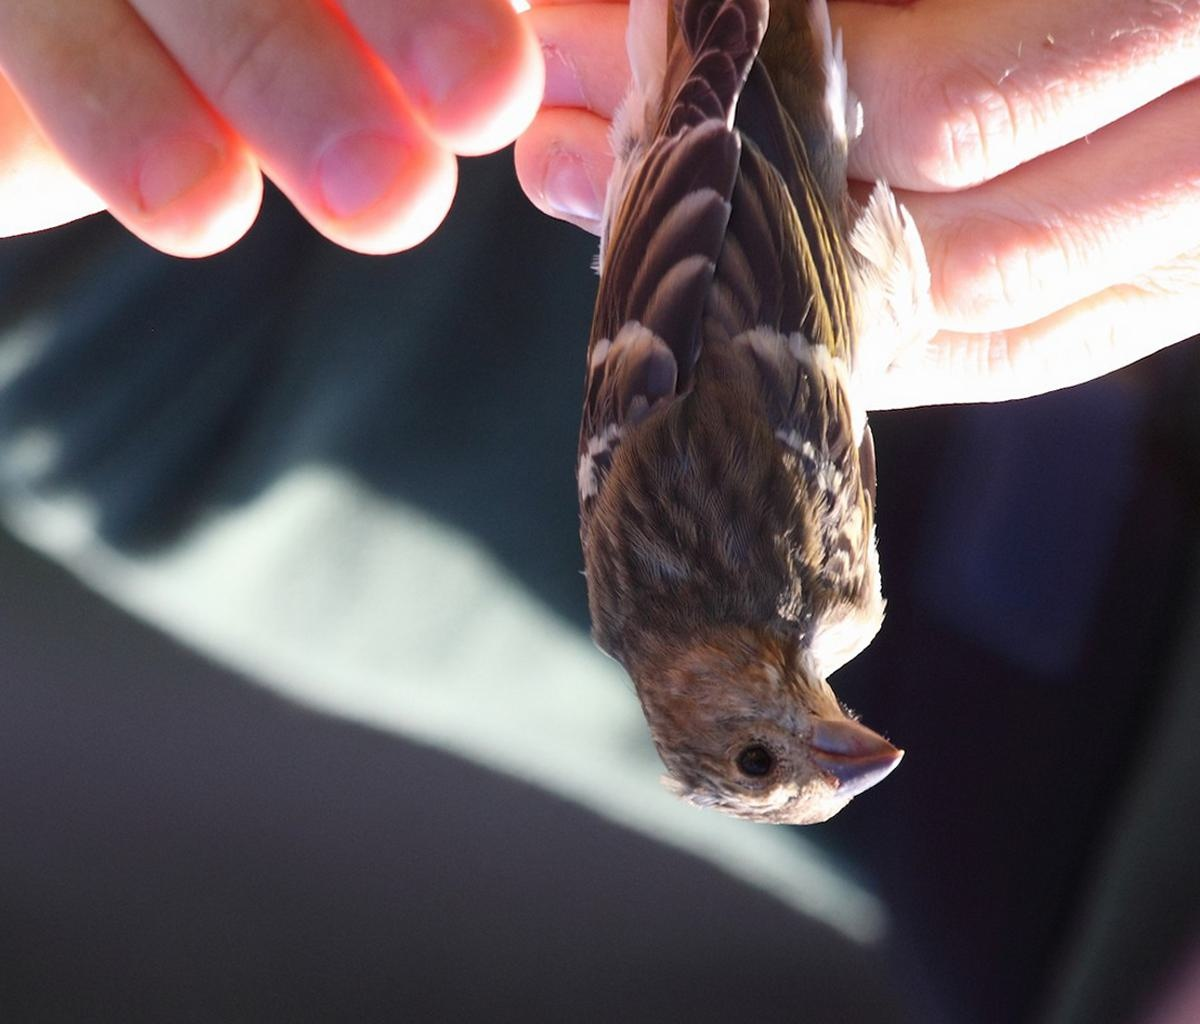rosefinch: (561, 72, 910, 843)
